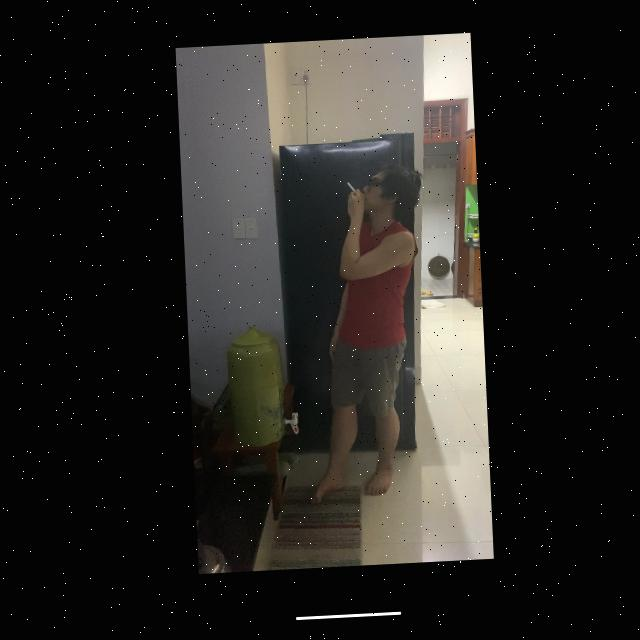cigarette: (344, 186, 352, 198)
